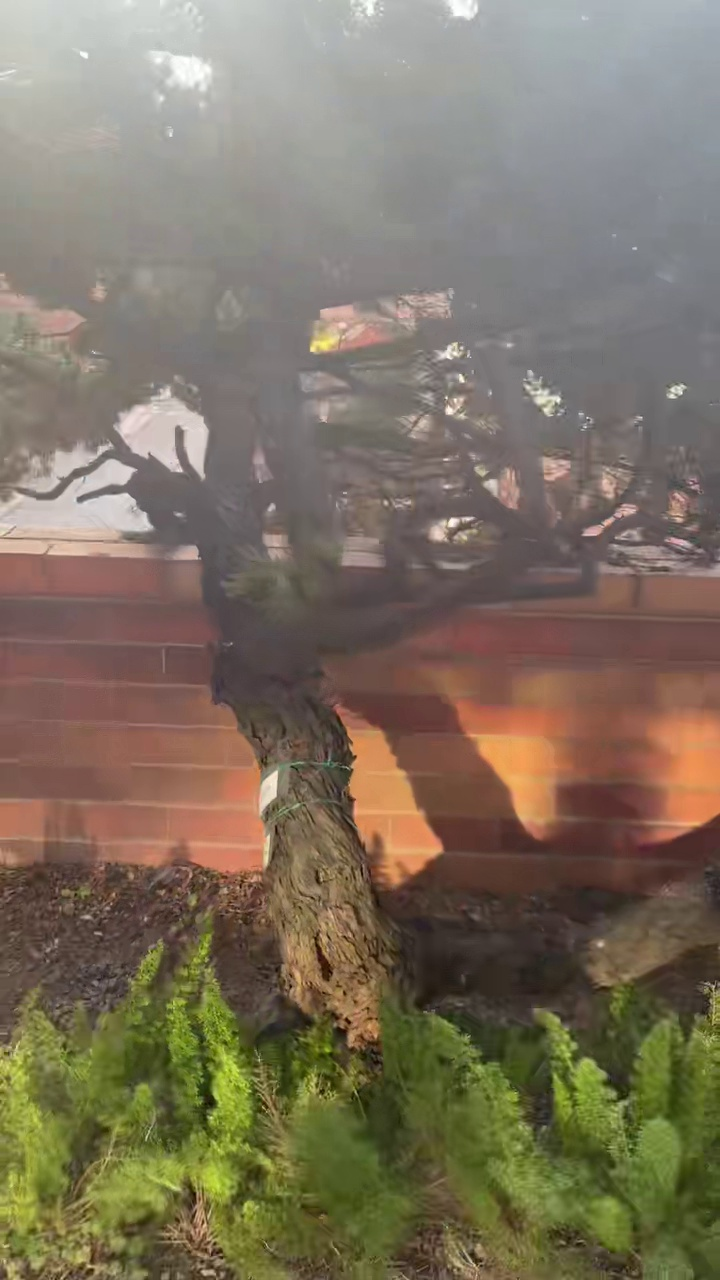Juniperus chinensis: (0, 0, 719, 1041)
